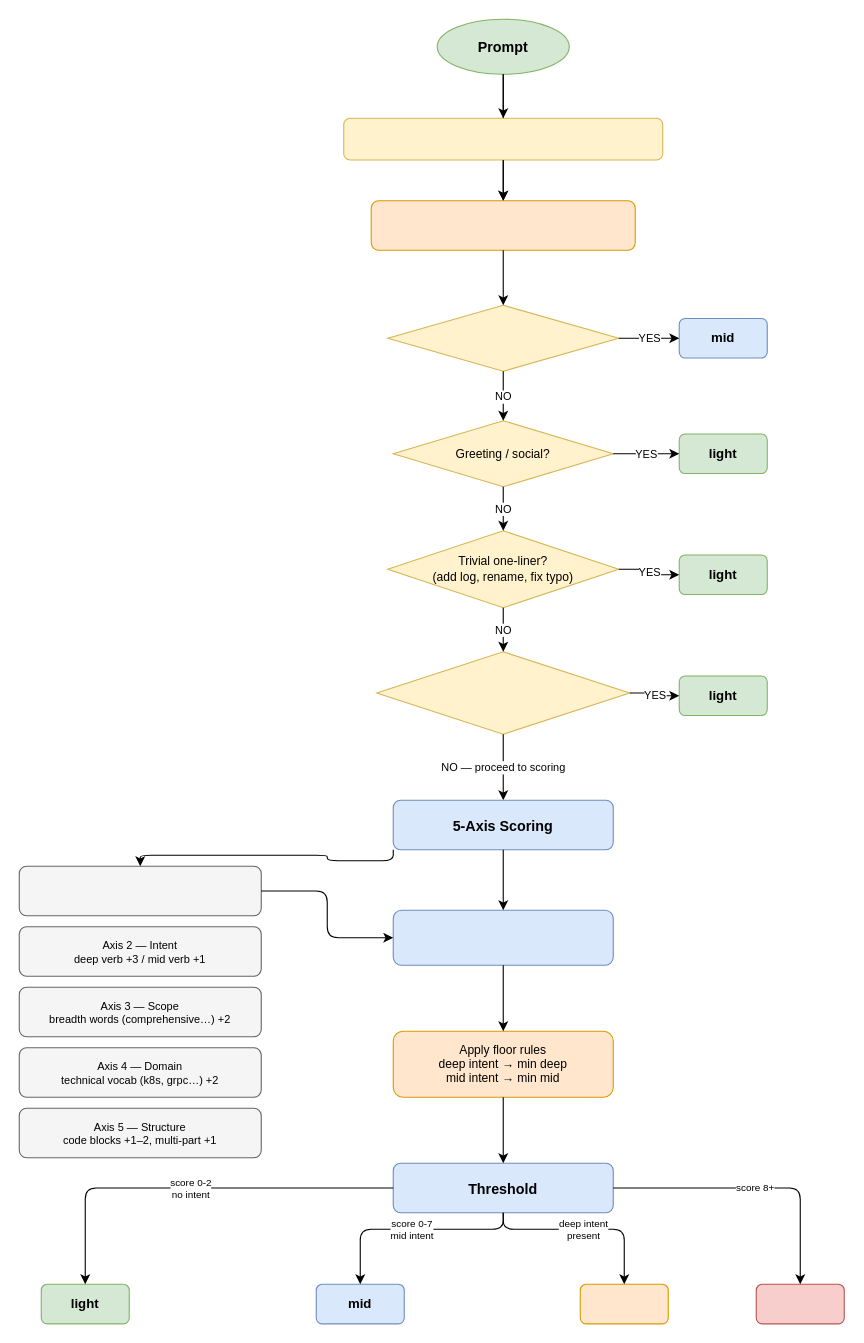
Some shapes in this 864 by 1343 pixel diagram are drawn without their labels. The box of each missing label's shape, as (x1, y1, x2, y2) in pixels:
Axis 1 — Length ≥80 chars +1 / >200 +2 / >500 +3: (18, 865, 261, 916)
correctTypos() — EN / TR typo correction (fail-soft): (343, 117, 663, 160)
deep: (579, 1283, 668, 1324)
Early Exit Checks (checkFastExits): (370, 200, 635, 250)
Short-conversational? (≤55 chars, no intent/scope/domain/code): (376, 651, 630, 734)
Slash command or empty?: (387, 304, 619, 371)
Sum scores (max realistic ≈ 13): (392, 909, 613, 965)
ultra: (755, 1283, 844, 1324)
